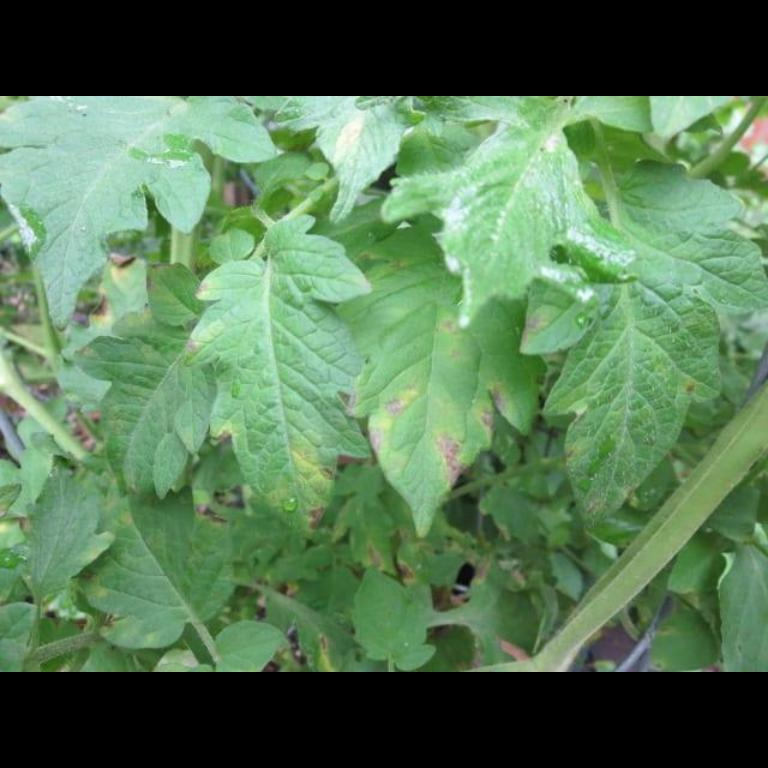blight: (374, 367, 481, 493)
